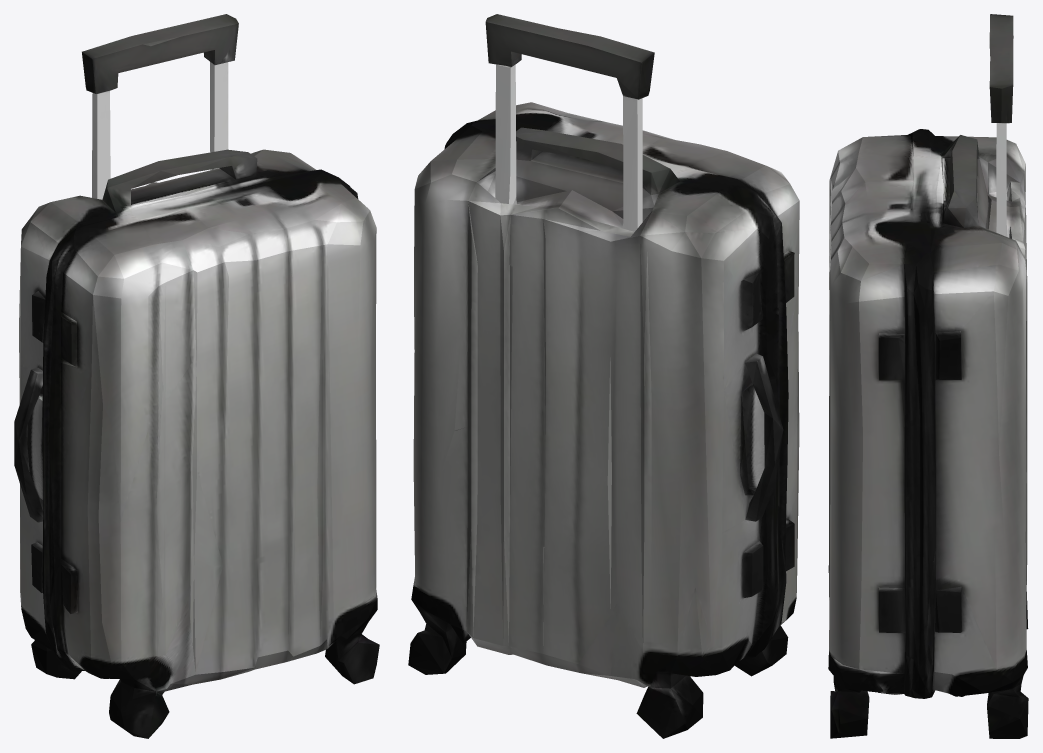
Rendered from suitcase.glb.
The picture shows the model from 3 angles, left to right: view 1: azimuth 30°, elevation 25°; view 2: azimuth 150°, elevation 25°; view 3: azimuth 270°, elevation 25°; orthographic projection. The views are drawn at different scales.
Visible parts, largest first — view 1: model; view 2: model; view 3: model.
Part boxes in pixels (box(x1,y1,x2,y2)): model: box(14, 14, 379, 738); model: box(408, 14, 799, 738); model: box(828, 14, 1028, 738).
Size of the model in its own units: 1.05 by 1.9 by 0.5448.
1 material, 1 textured.
